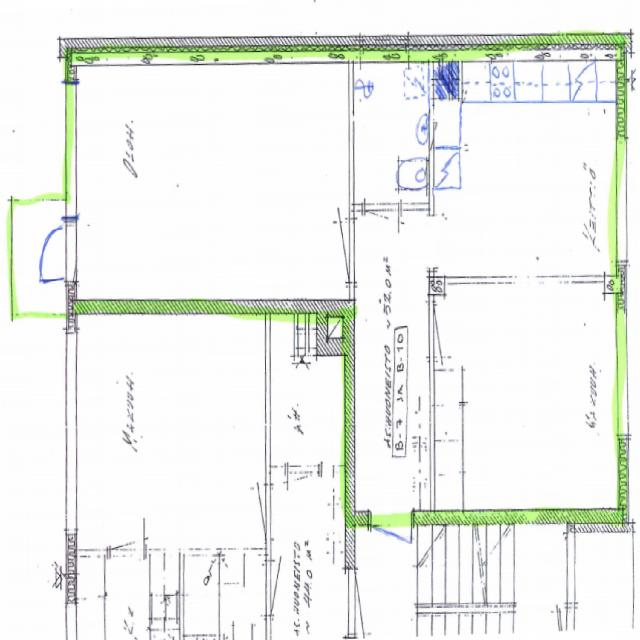door: (371, 509, 412, 584), (308, 222, 355, 282), (30, 228, 76, 280), (429, 303, 471, 357), (365, 203, 399, 260)
